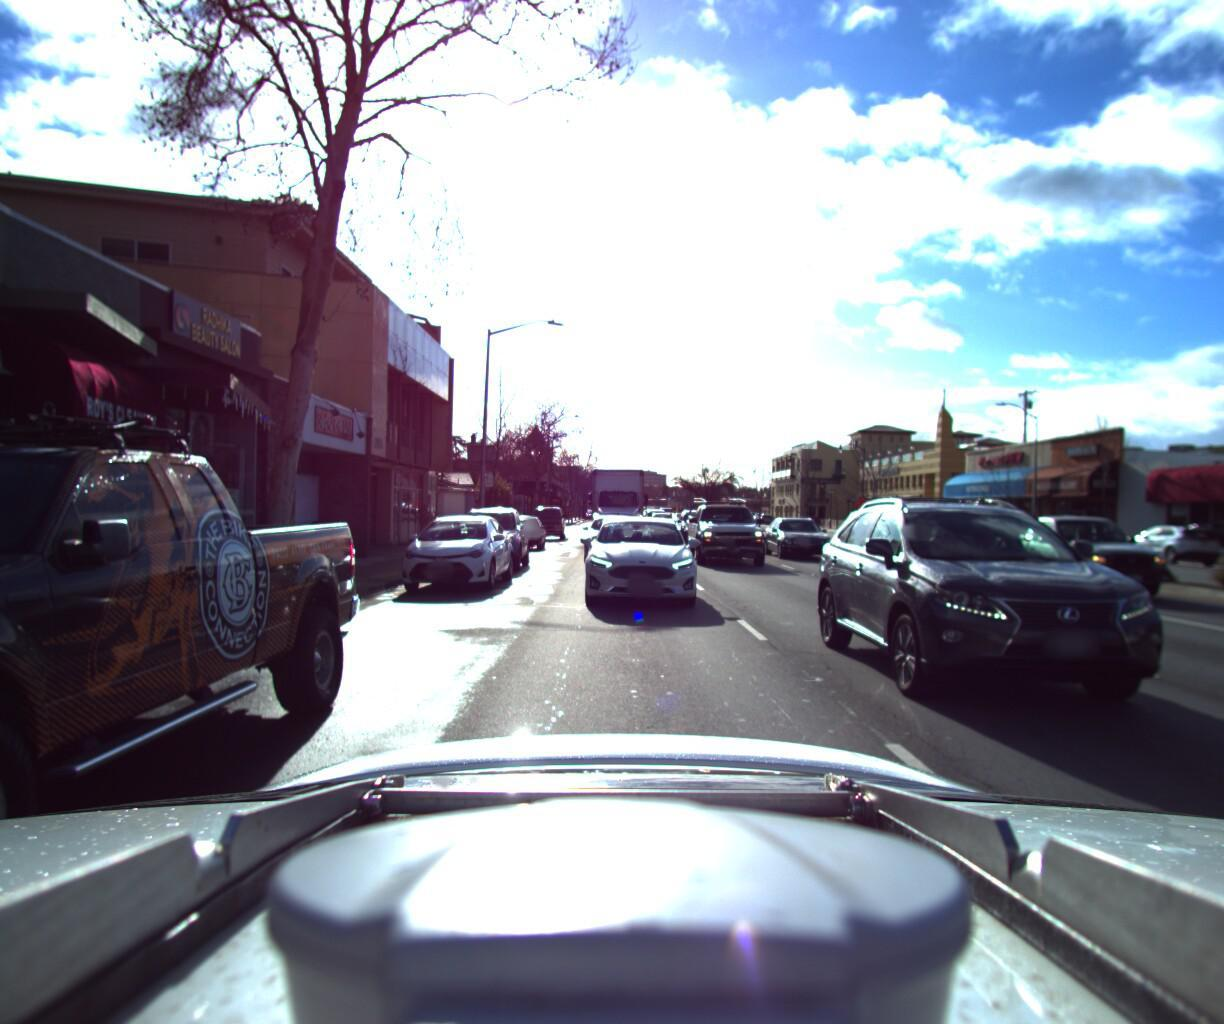car: (0, 290, 376, 1024), (813, 477, 1224, 763), (992, 503, 1219, 602), (571, 508, 715, 619), (389, 504, 518, 596), (681, 488, 774, 566), (440, 499, 533, 569), (1120, 515, 1224, 559), (757, 509, 843, 557), (580, 508, 648, 564), (494, 508, 548, 545), (524, 498, 569, 535)
truck: (584, 458, 652, 540)
